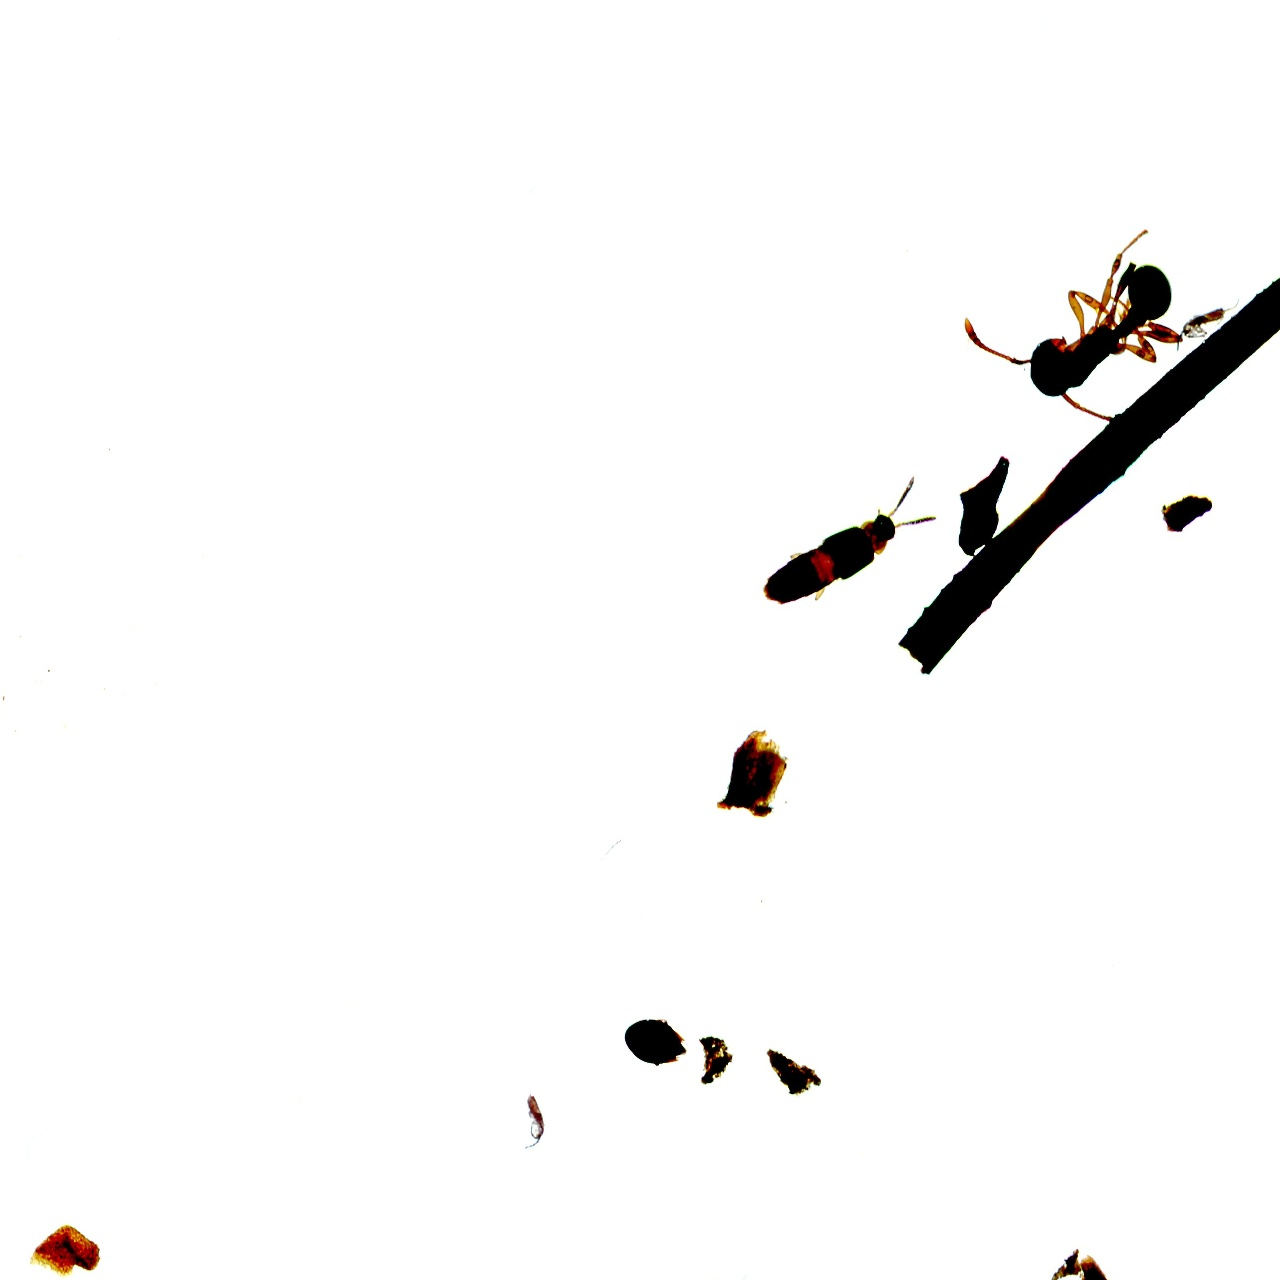arthropod: (937, 186, 1241, 482), (745, 464, 956, 640), (1159, 279, 1255, 362), (615, 1013, 694, 1073), (519, 1089, 551, 1155), (673, 1268, 755, 1280)
